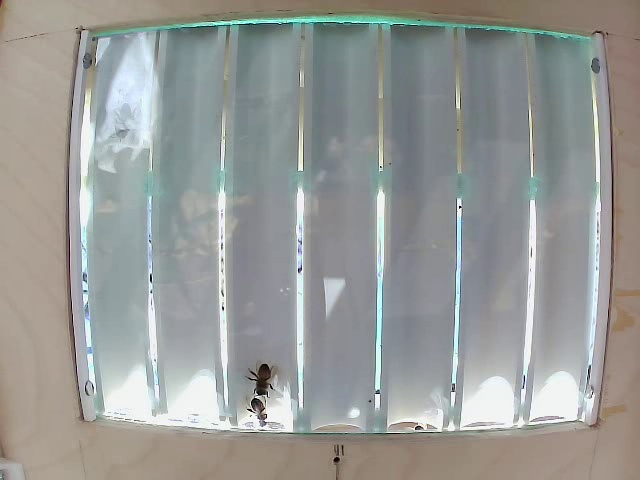bee: (241, 359, 283, 398)
